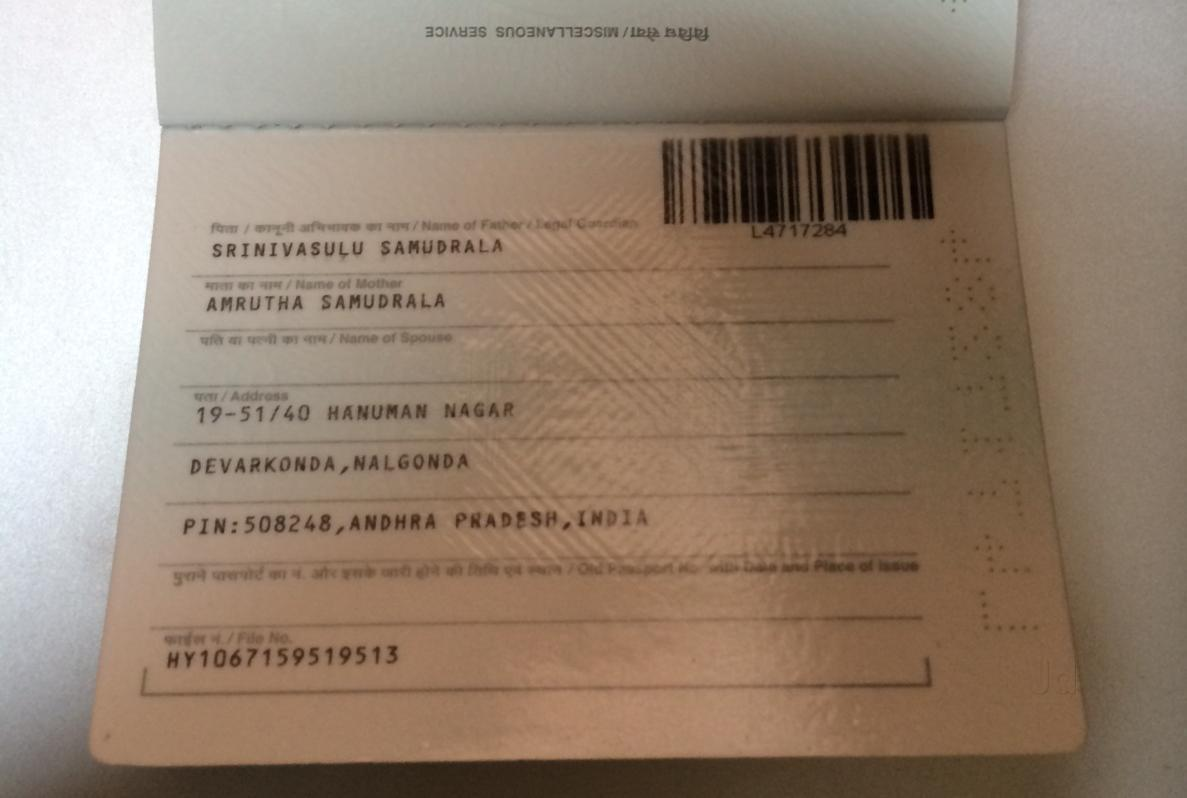File_no: (151, 642, 413, 685)
address: (177, 396, 660, 543)
father_name: (194, 231, 519, 266)
mother_name: (199, 289, 468, 319)
passport_no: (740, 218, 869, 244)
